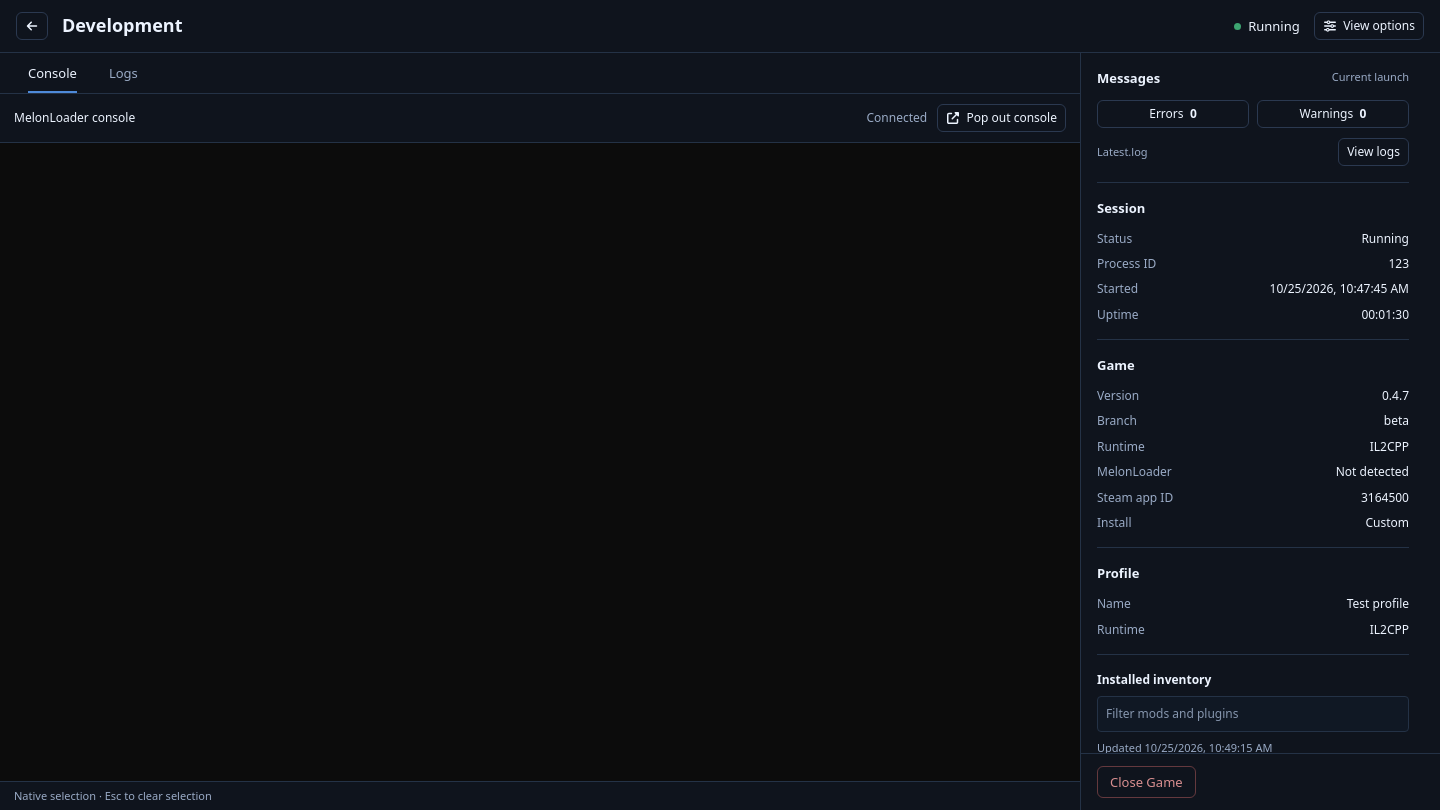
Test: Native Console › pops out and redocks the existing console without closing or relaunching the game
The image size is (1440, 810).
Expected: the text "Test profile" is shown, [1347, 595, 1409, 612]
Click the button "Pop out console" at (1002, 118), box [937, 104, 1066, 132]
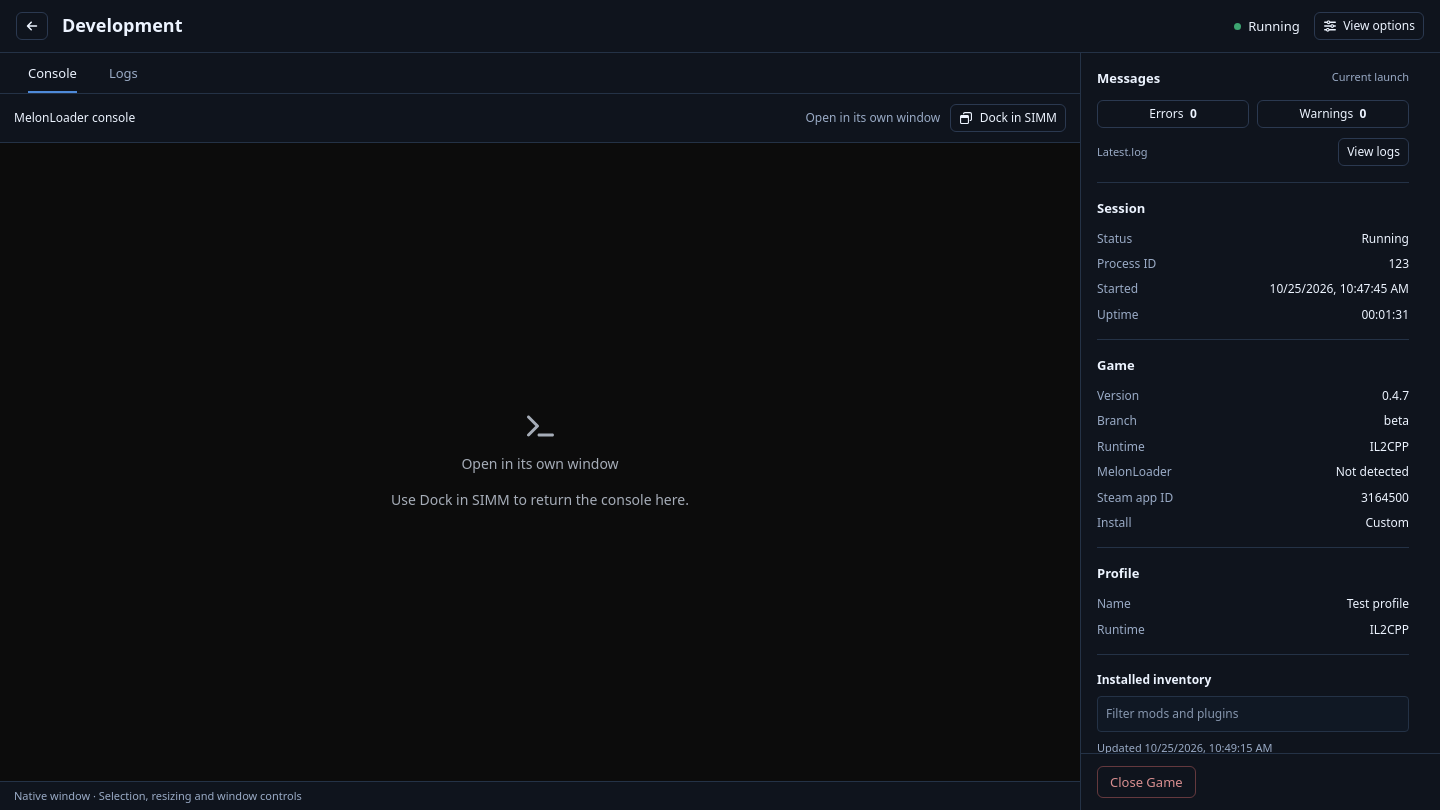
Expected: the text "Use Dock in SIMM to return the console here." is shown, [391, 490, 689, 510]
Click the button "Dock in SIMM" at (1008, 118), box [950, 104, 1066, 132]
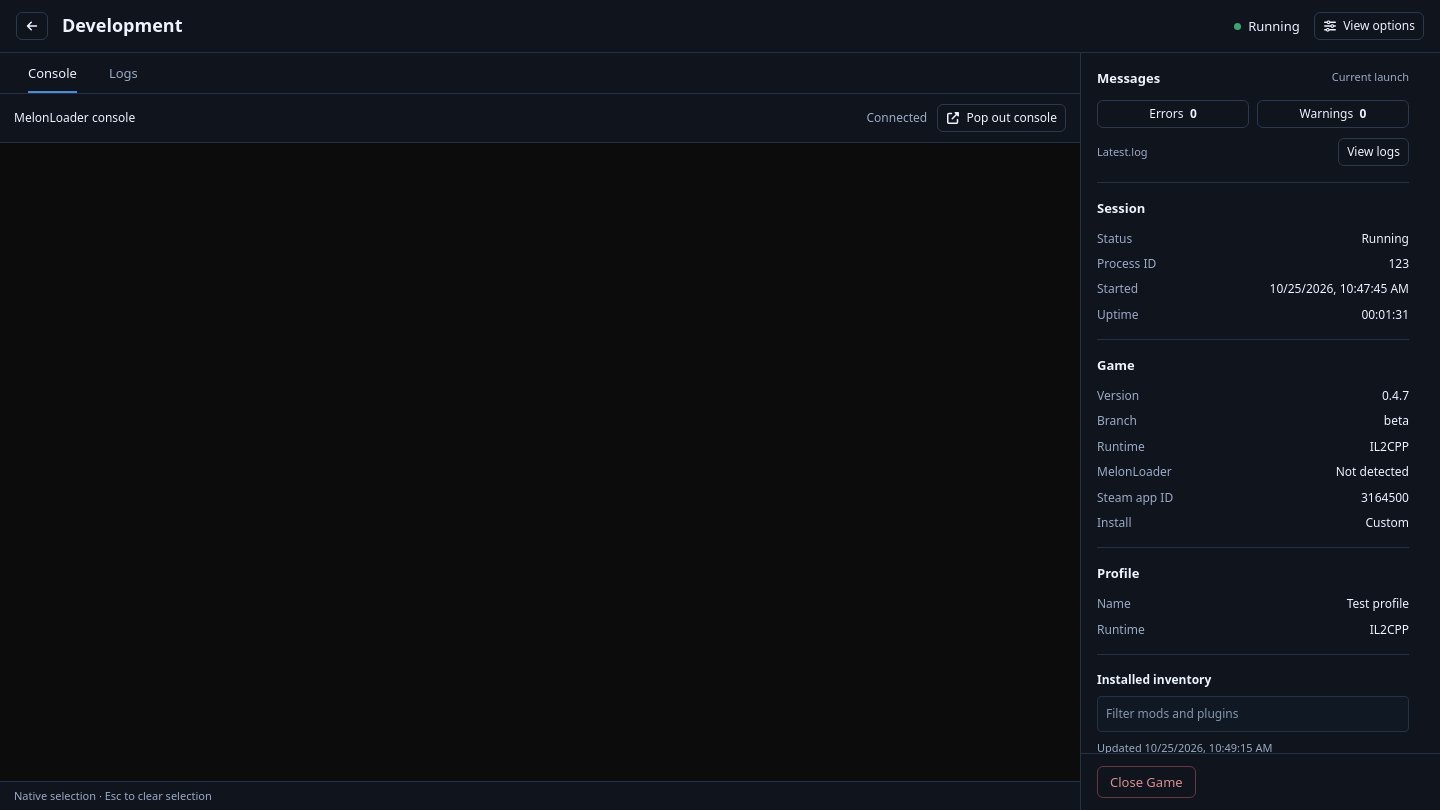
Expected: the button "Pop out console" is shown, [937, 104, 1066, 132]
